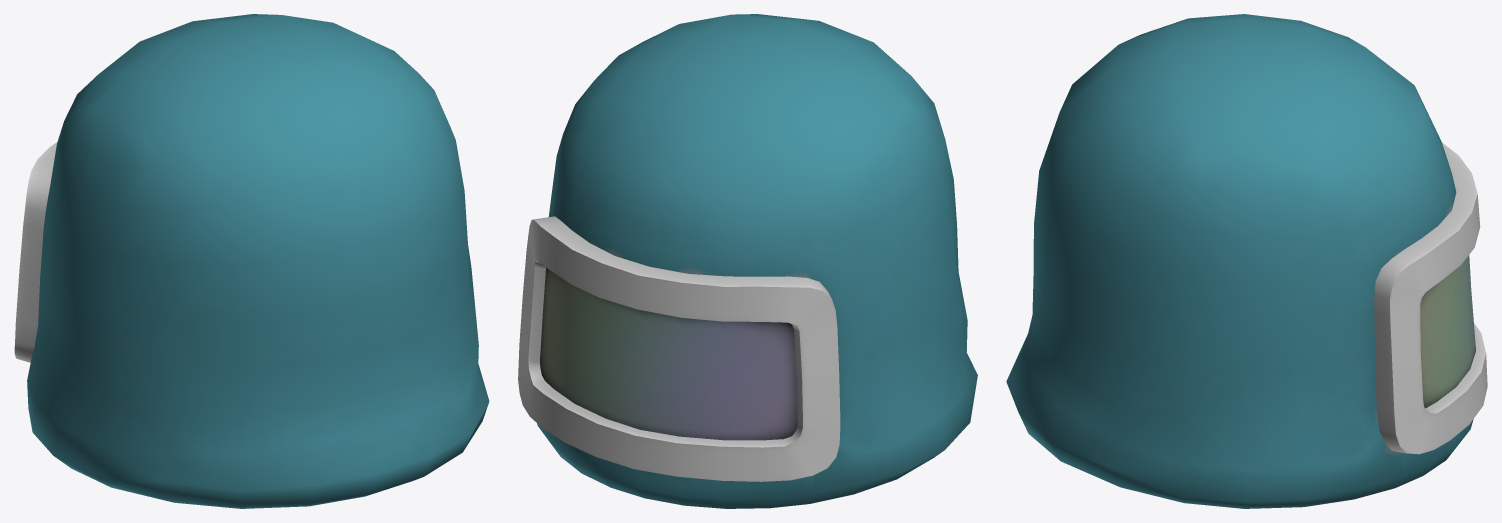
The model's file is IG_Helmat_ColdProtect.fbx.
The picture shows the model from 3 angles, left to right: view 1: azimuth 30°, elevation 25°; view 2: azimuth 150°, elevation 25°; view 3: azimuth 270°, elevation 25°; orthographic projection. The views are drawn at different scales.
Parts seen in each view (by area): view 1: JLAB_ProtectiveClothes_Head; view 2: JLAB_ProtectiveClothes_Head; view 3: JLAB_ProtectiveClothes_Head.
Part boxes in pixels (bbox=[...]): JLAB_ProtectiveClothes_Head: bbox=[14, 14, 489, 508]; JLAB_ProtectiveClothes_Head: bbox=[518, 14, 977, 508]; JLAB_ProtectiveClothes_Head: bbox=[1006, 14, 1487, 508].
Bounding box in the file's own units: 0.6252 × 0.5793 × 0.6588.
1 material, 1 textured.
